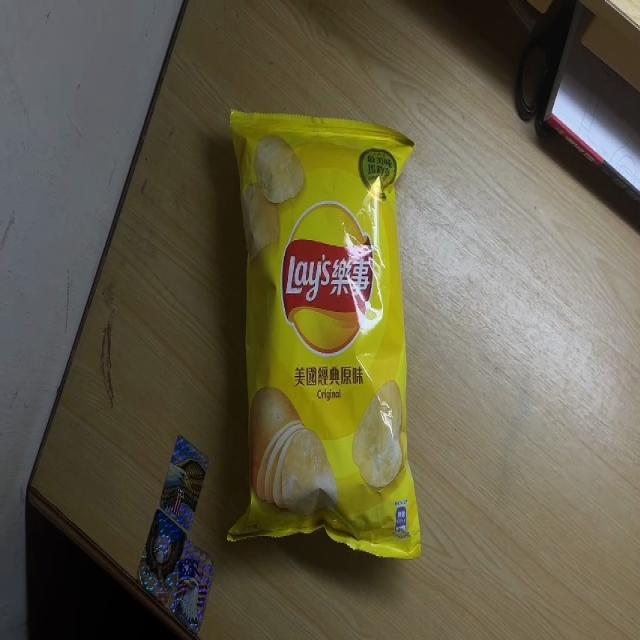Lay-s-original: (228, 110, 421, 558)
